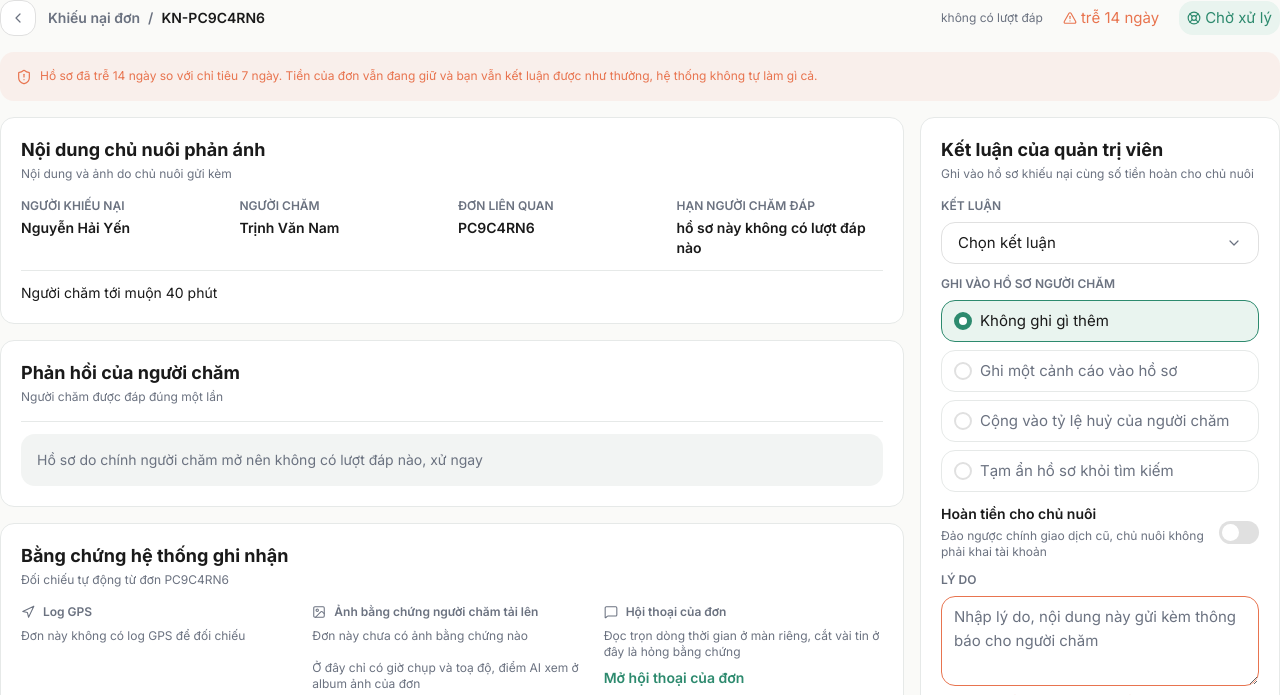
Test: Ra kết luận cho hồ sơ khiếu nại › hồ sơ quá hạn vẫn kết luận được, không thao tác nào bị khoá
Expected: the text "Hồ sơ đã trễ" is shown, [40, 68, 818, 83]
Click the button "Chọn kết luận": (1007, 242) [941, 222, 1259, 264]
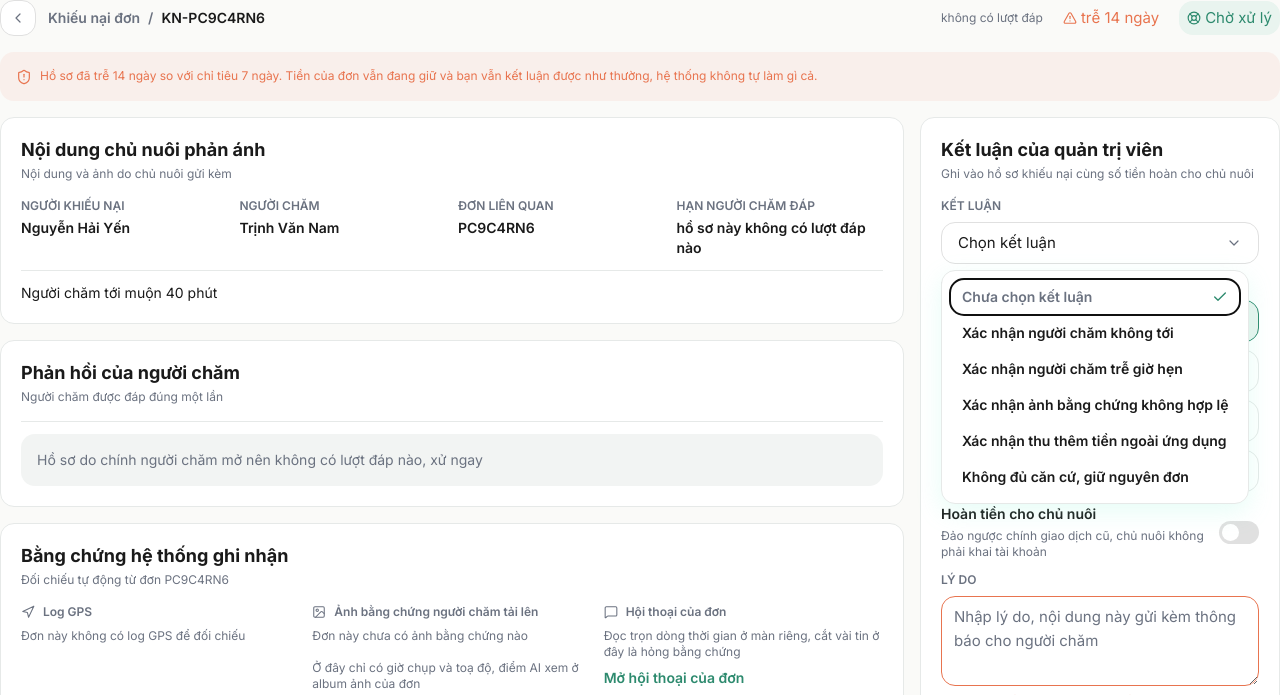
Click the button "Xác nhận người chăm trễ giờ hẹn": (1095, 369) [950, 351, 1240, 387]
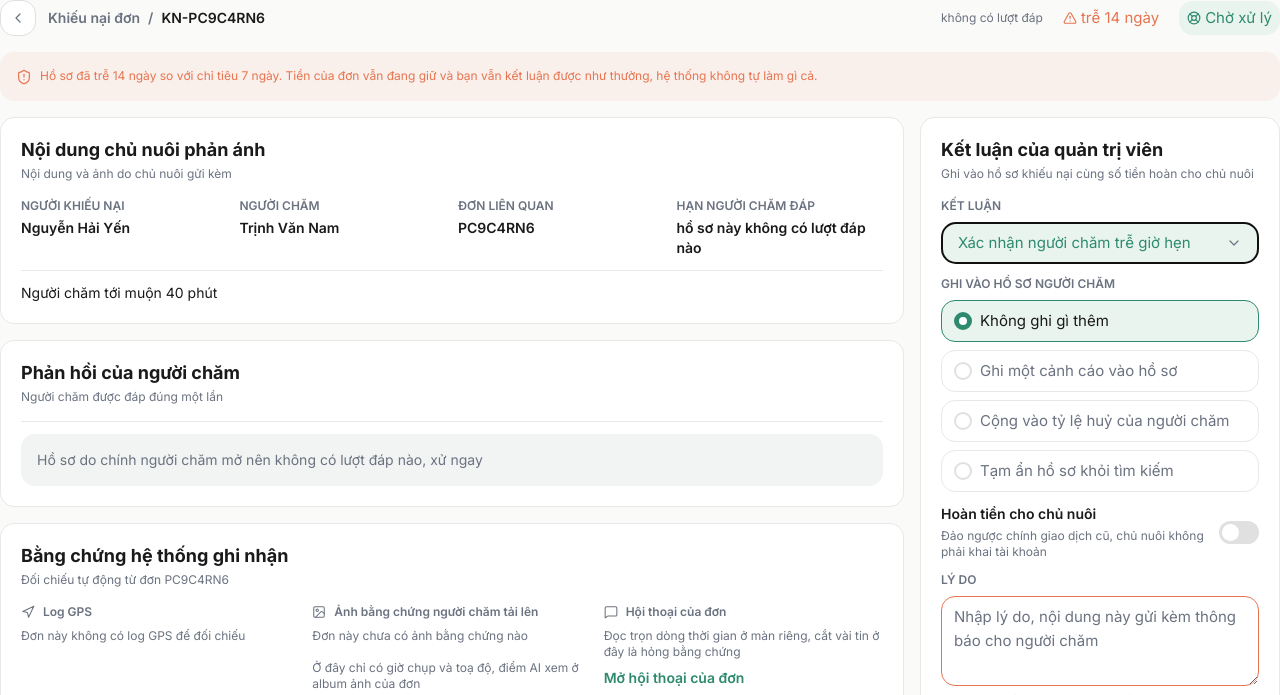
In the text box: (1100, 641) [941, 596, 1259, 686], type "Log GPS cho thấy tới muộn 40 phút"
(page scrolled)
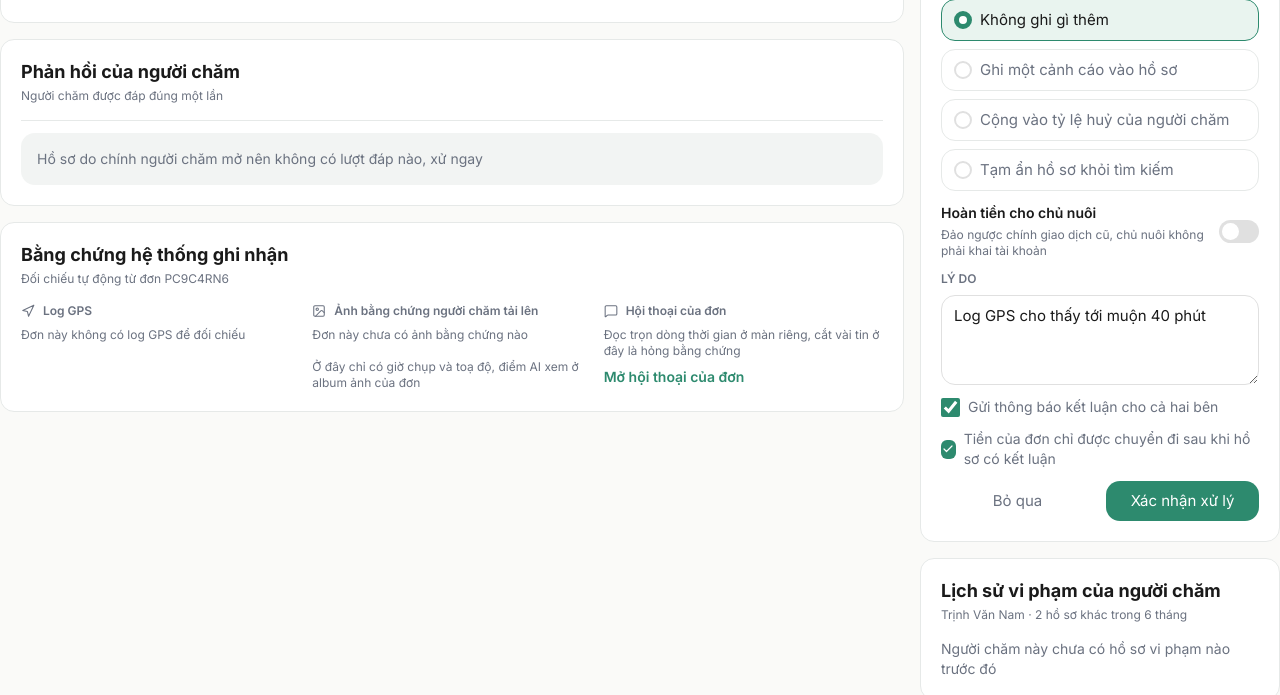
Expected: the button "Xác nhận xử lý" is enabled, [1106, 481, 1259, 521]
